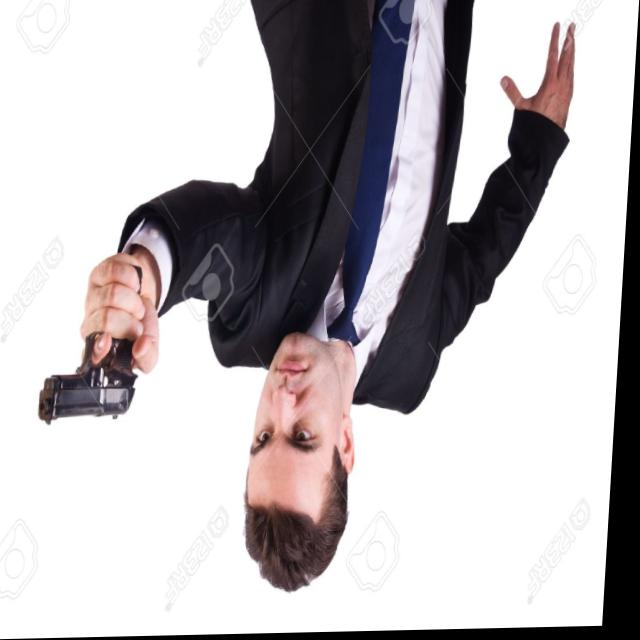handgun: (41, 263, 151, 424)
